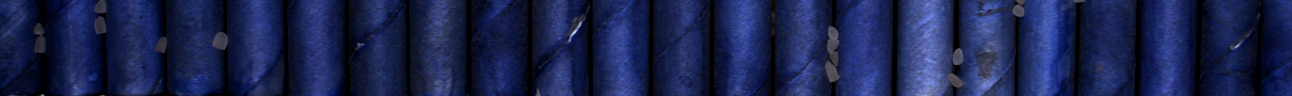broken_grain: (210, 26, 231, 54), (154, 32, 172, 61), (949, 44, 968, 70), (822, 62, 843, 83), (93, 11, 110, 36), (947, 69, 967, 89), (30, 18, 48, 37), (88, 1, 114, 14), (826, 49, 842, 67), (34, 36, 49, 54), (826, 20, 840, 39), (1013, 2, 1029, 18), (823, 38, 840, 52)
